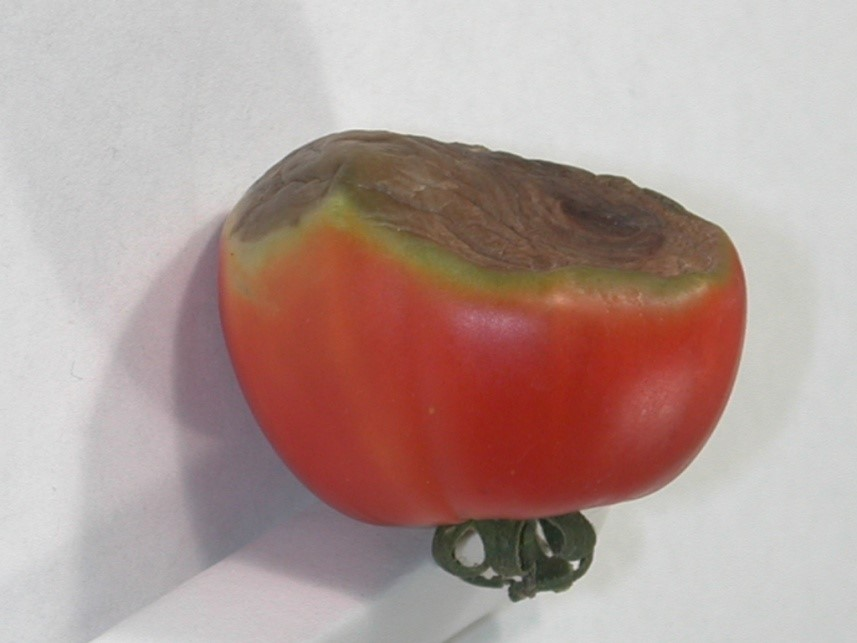blossom_rotw: (253, 126, 742, 351)
